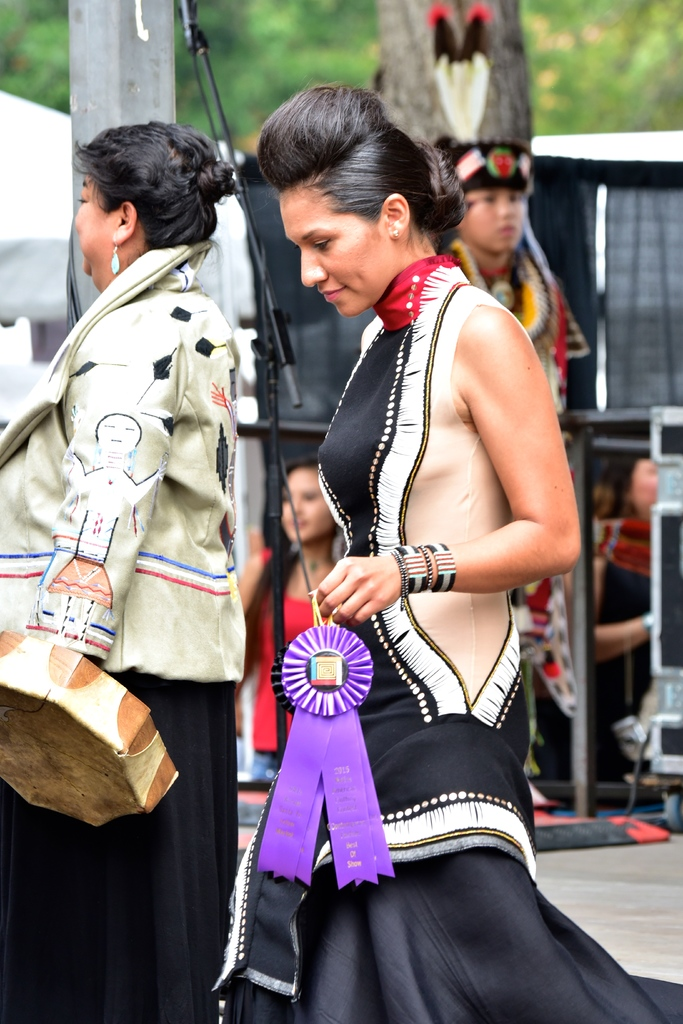Human_hand: (323, 548, 418, 623)
